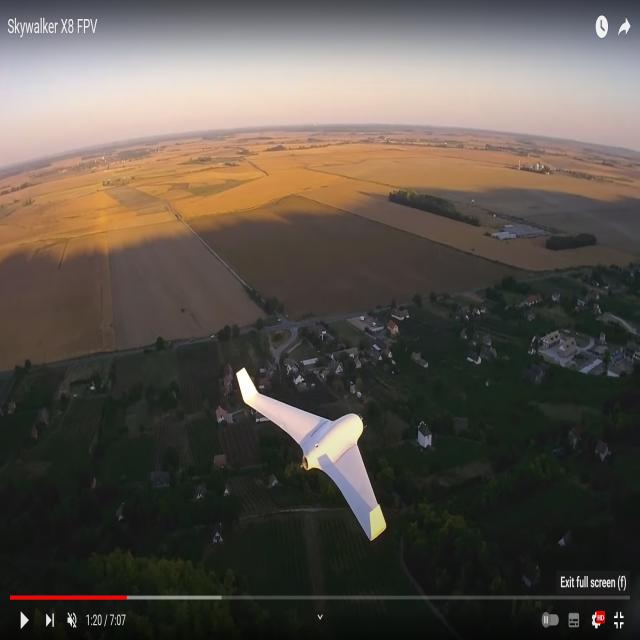iha: (238, 360, 387, 542)
